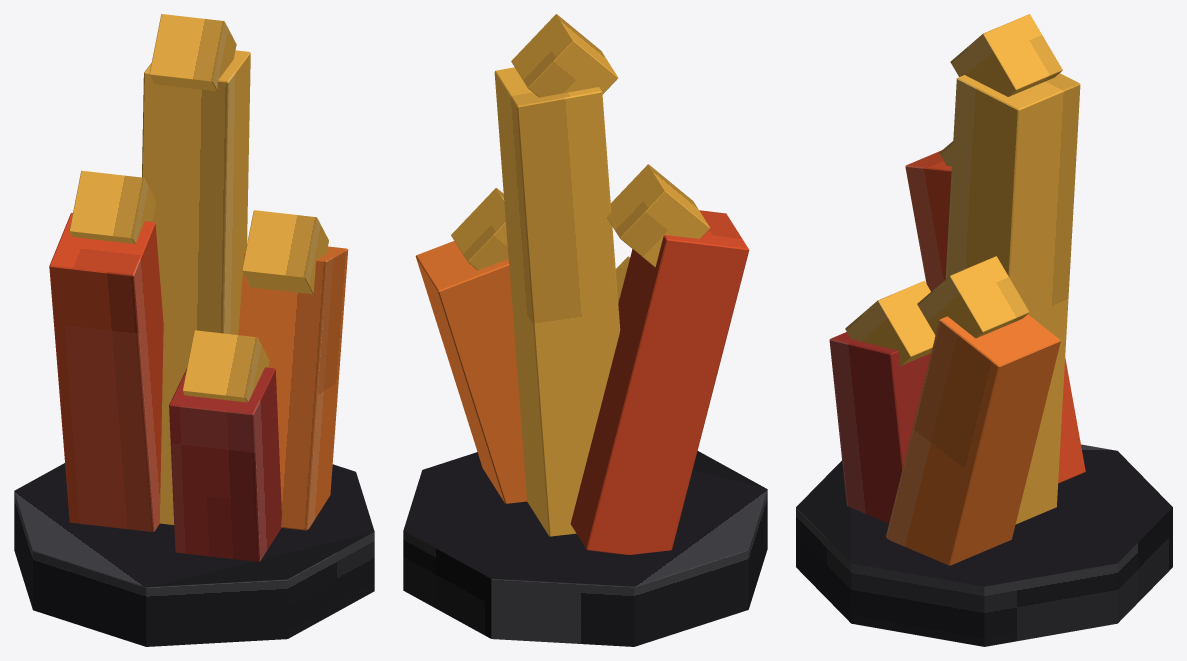
File: magma_crystal_cluster.glb
The picture shows the model from 3 angles, left to right: view 1: azimuth 30°, elevation 25°; view 2: azimuth 150°, elevation 25°; view 3: azimuth 270°, elevation 25°; orthographic projection.
Parts seen in each view (by area): view 1: CrystalBed, MagmaCrystal_1, MagmaCrystal_2, MagmaCrystal_4, MagmaCrystal_3, CrystalTip_3, CrystalTip_2, CrystalTip_1, CrystalTip_4; view 2: CrystalBed, MagmaCrystal_2, MagmaCrystal_1, MagmaCrystal_3, CrystalTip_1, CrystalTip_2, CrystalTip_3; view 3: CrystalBed, MagmaCrystal_2, MagmaCrystal_3, MagmaCrystal_4, MagmaCrystal_1, CrystalTip_2, CrystalTip_3, CrystalTip_4.
Boxes of the visible parts, x1=… form: CrystalBed: x1=14, y1=463, x2=374, y2=646; MagmaCrystal_1: x1=49, y1=213, x2=163, y2=531; MagmaCrystal_2: x1=142, y1=50, x2=250, y2=524; MagmaCrystal_4: x1=169, y1=367, x2=281, y2=561; MagmaCrystal_3: x1=238, y1=246, x2=348, y2=530; CrystalTip_3: x1=242, y1=210, x2=328, y2=294; CrystalTip_2: x1=149, y1=14, x2=236, y2=91; CrystalTip_1: x1=69, y1=170, x2=155, y2=243; CrystalTip_4: x1=182, y1=330, x2=269, y2=402; CrystalBed: x1=403, y1=451, x2=767, y2=646; MagmaCrystal_2: x1=494, y1=67, x2=620, y2=536; MagmaCrystal_1: x1=570, y1=210, x2=749, y2=554; MagmaCrystal_3: x1=415, y1=241, x2=526, y2=503; CrystalTip_1: x1=607, y1=164, x2=710, y2=267; CrystalTip_2: x1=511, y1=14, x2=618, y2=97; CrystalTip_3: x1=451, y1=188, x2=508, y2=270; CrystalBed: x1=796, y1=444, x2=1172, y2=646; MagmaCrystal_2: x1=945, y1=73, x2=1080, y2=524; MagmaCrystal_3: x1=886, y1=314, x2=1060, y2=565; MagmaCrystal_4: x1=829, y1=332, x2=930, y2=523; MagmaCrystal_1: x1=905, y1=150, x2=1085, y2=483; CrystalTip_2: x1=950, y1=14, x2=1062, y2=96; CrystalTip_3: x1=917, y1=256, x2=1029, y2=338; CrystalTip_4: x1=845, y1=281, x2=935, y2=365.
Bounding box in the file's own units: 0.68 × 1.09 × 0.68.
1 material, 1 textured.
